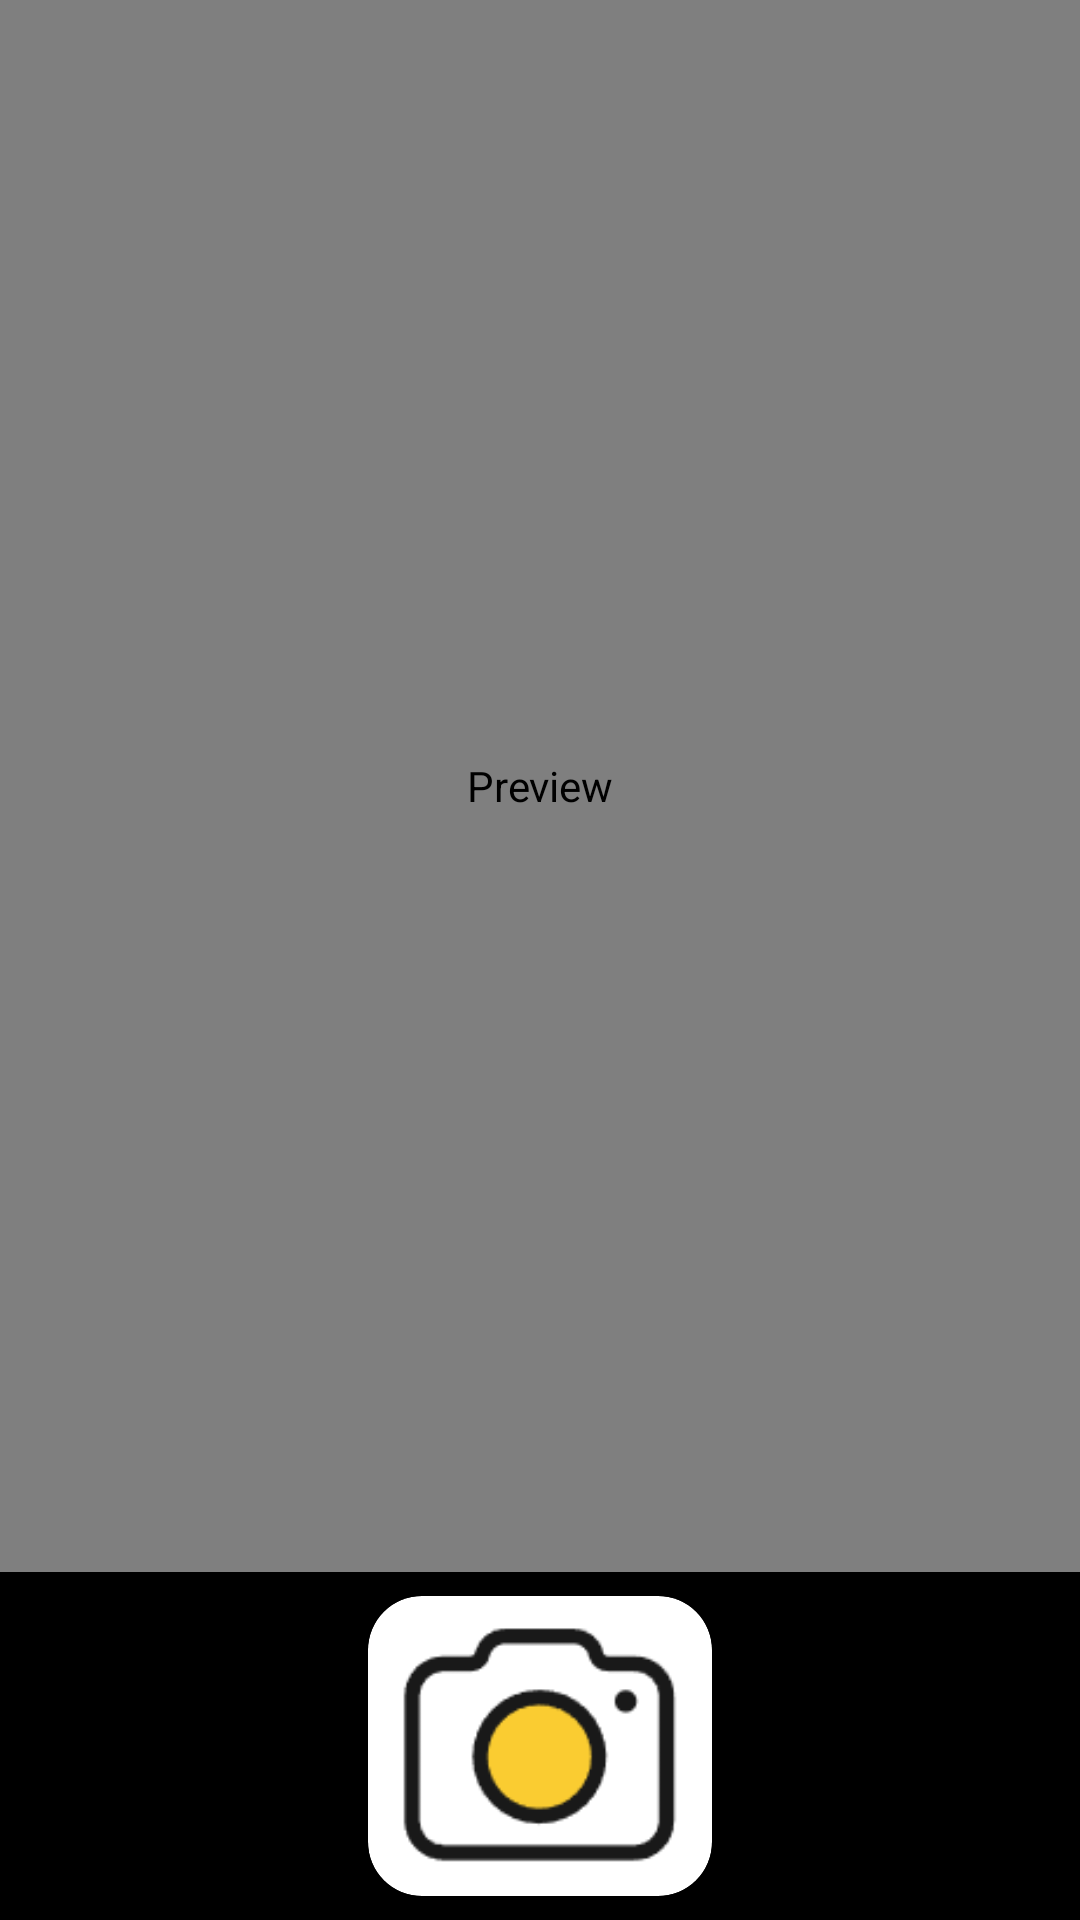

Point at icon controls on the screen. Image size 1080w x 1920h, points as (x,y).
Capture button: (540,1746)
